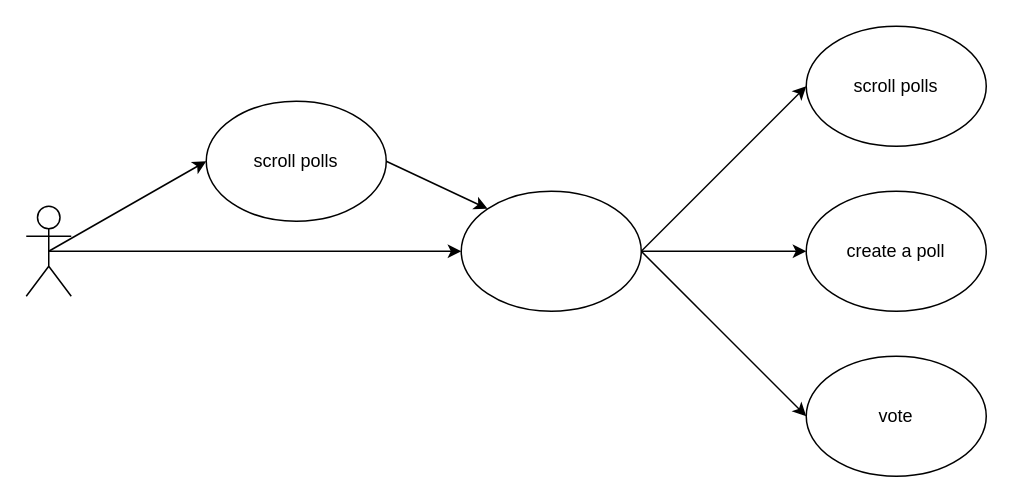
Some shapes in this 1013 by 503 pixel diagram are drawn without their labels. Each missing label, with the centre of its shape:
Actor: point (48, 250)
sign in / sign up: point (550, 250)
